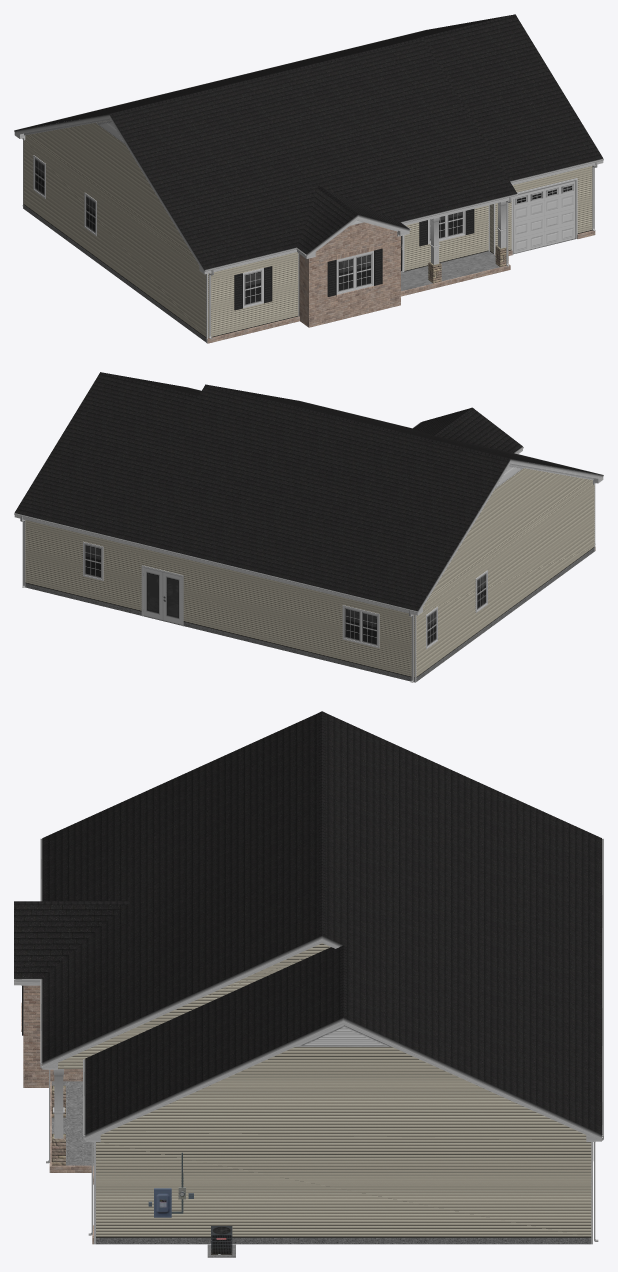
File: house13_mirror1.fbx
The picture shows the model from 3 angles, top to bottom: view 1: azimuth 30°, elevation 25°; view 2: azimuth 150°, elevation 25°; view 3: azimuth 270°, elevation 25°; orthographic projection. The views are drawn at different scales.
Visible parts, largest first — view 1: house13_mirror1_LOD0; view 2: house13_mirror1_LOD0; view 3: house13_mirror1_LOD0.
Boxes of the visible parts, left/top/right/bottom form: house13_mirror1_LOD0: left=14, top=14, right=603, bottom=343; house13_mirror1_LOD0: left=14, top=372, right=603, bottom=682; house13_mirror1_LOD0: left=14, top=711, right=603, bottom=1257.
Size of what is drawn, in the model's own units: 5.09 by 1.86 by 4.15.
